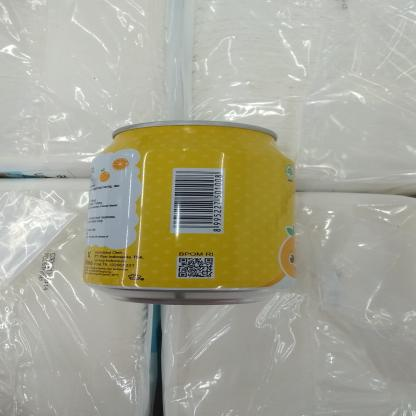can: (76, 116, 300, 306)
